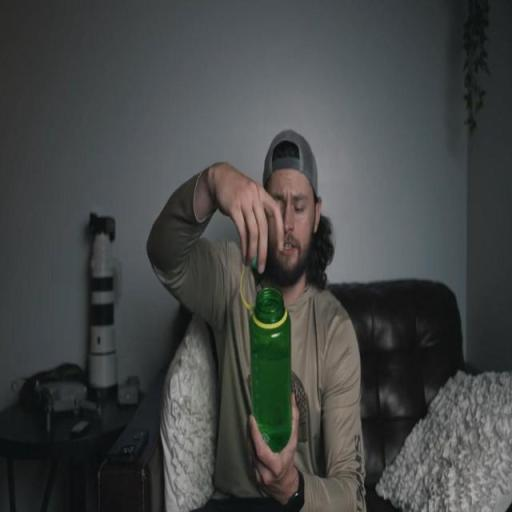bottle: (249, 288, 293, 452)
